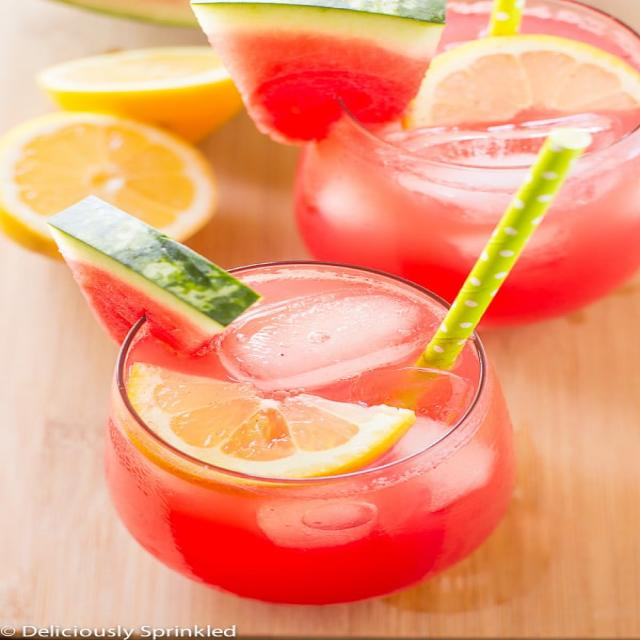watermelon: (35, 196, 264, 366), (188, 1, 450, 148)
